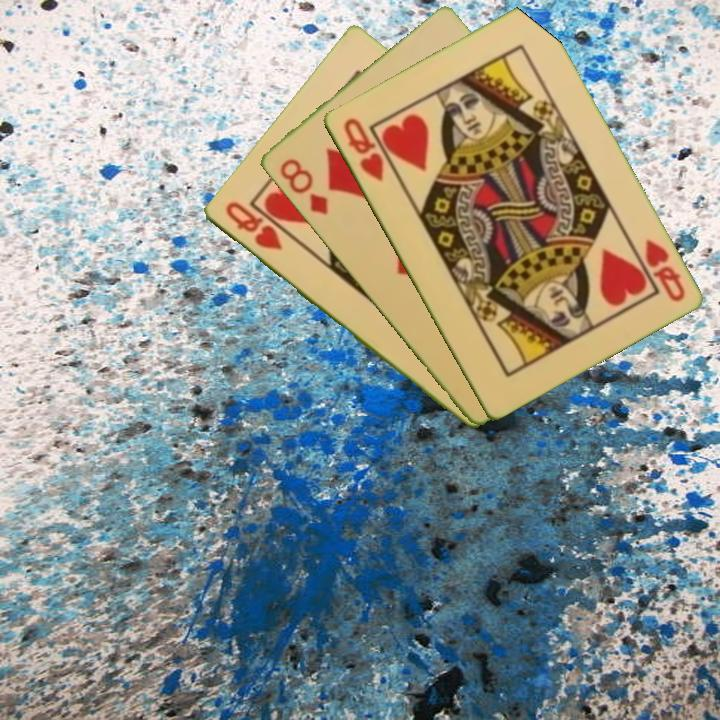8d: (275, 154, 331, 218)
Qh: (221, 197, 285, 254), (339, 114, 386, 185), (641, 235, 688, 305)
